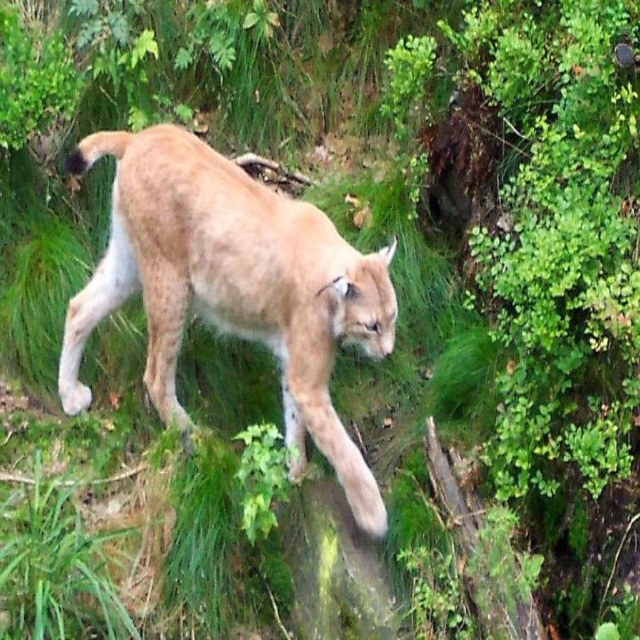Lynx: (58, 119, 398, 538)
